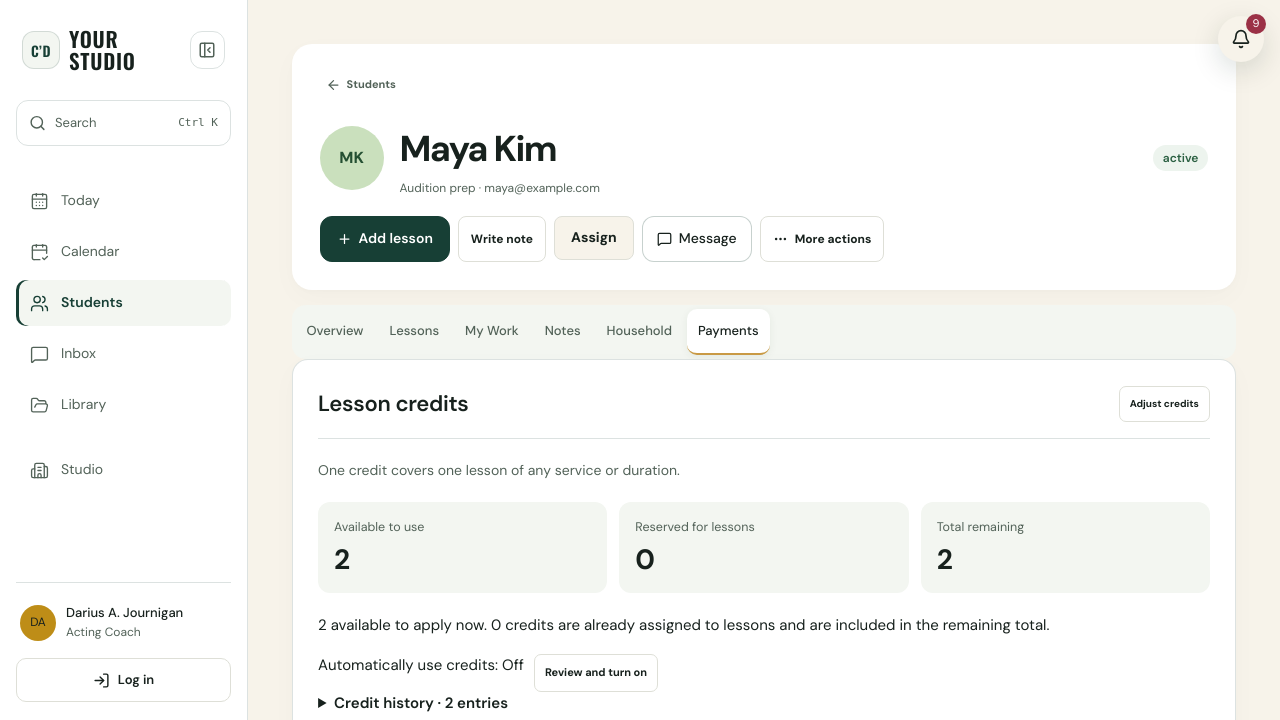
coach credit adjustments › sets a remaining total with a required reason instead of a signed correction
The image size is (1280, 720).
Click the button "Adjust credits" at (1164,404), box [1119,386,1210,422]
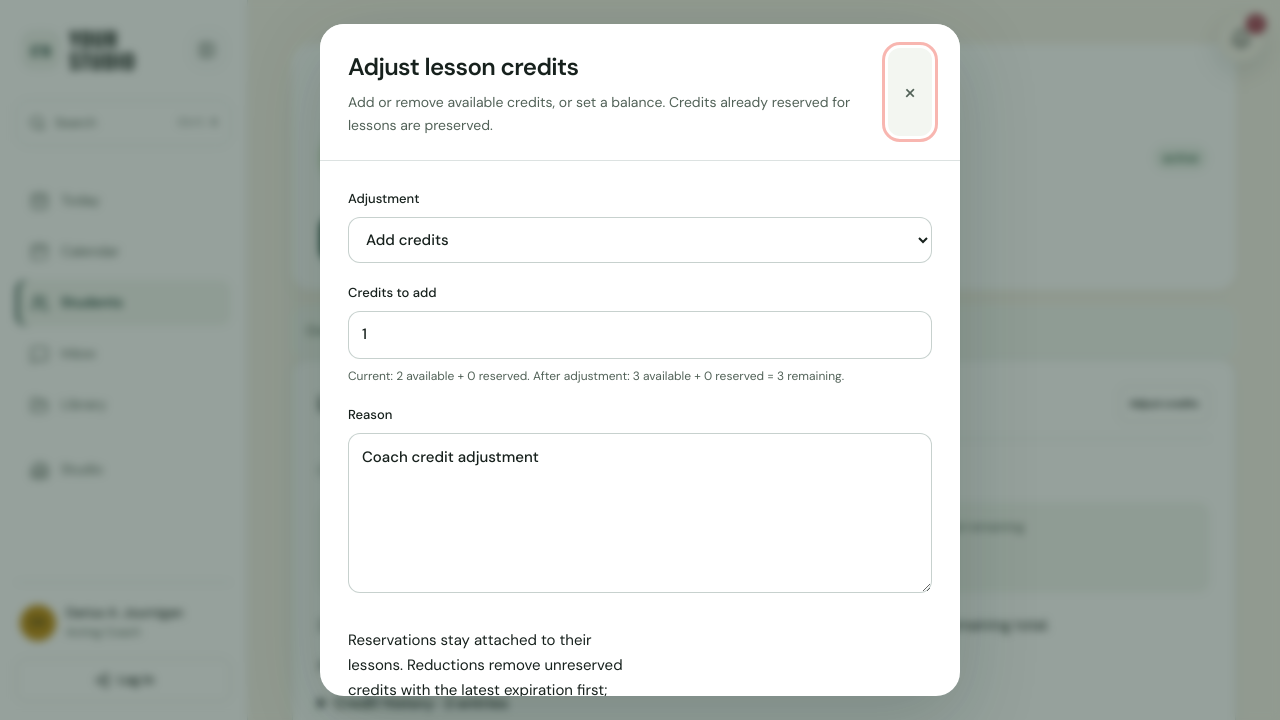
Select "Set remaining total" in the dropdown labelled "Adjustment" at (640,240), box [348,217,932,263]
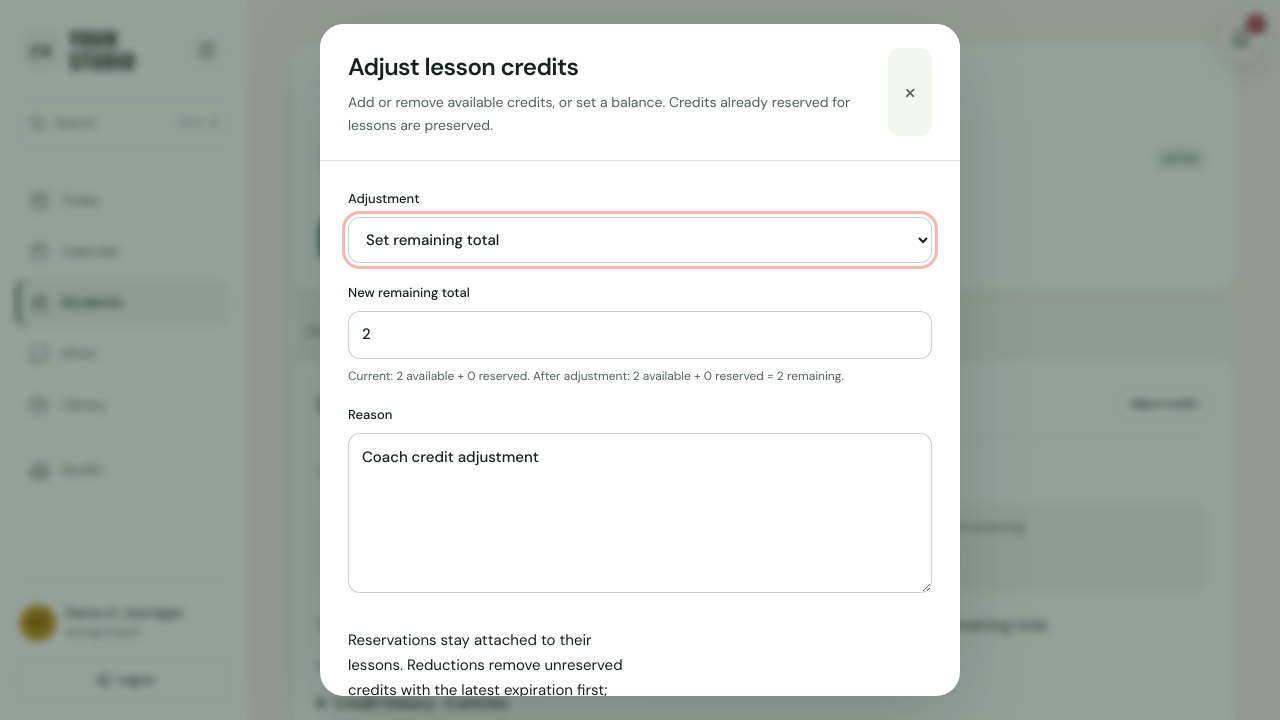
Replace the text in the number field labelled "New remaining total" with "4" at (640,335), box [348,311,932,359]
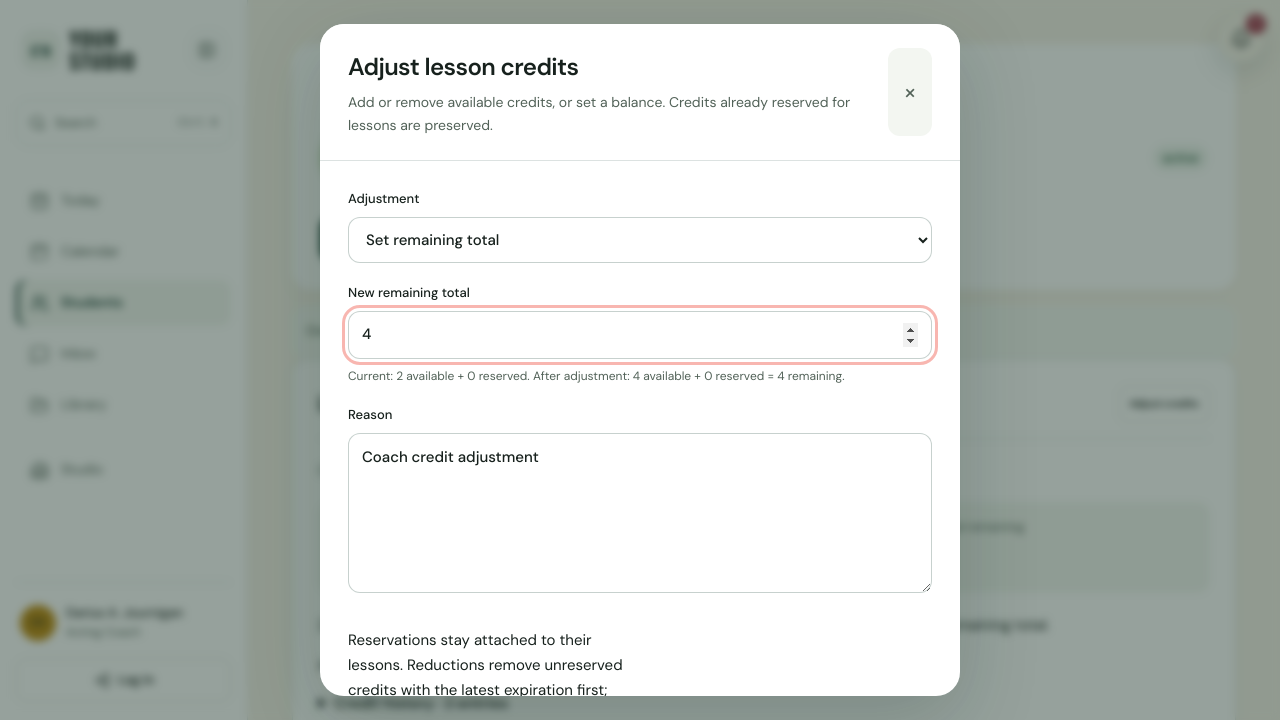
Clear the text box labelled "Reason" at (640,513), box [348,433,932,593]
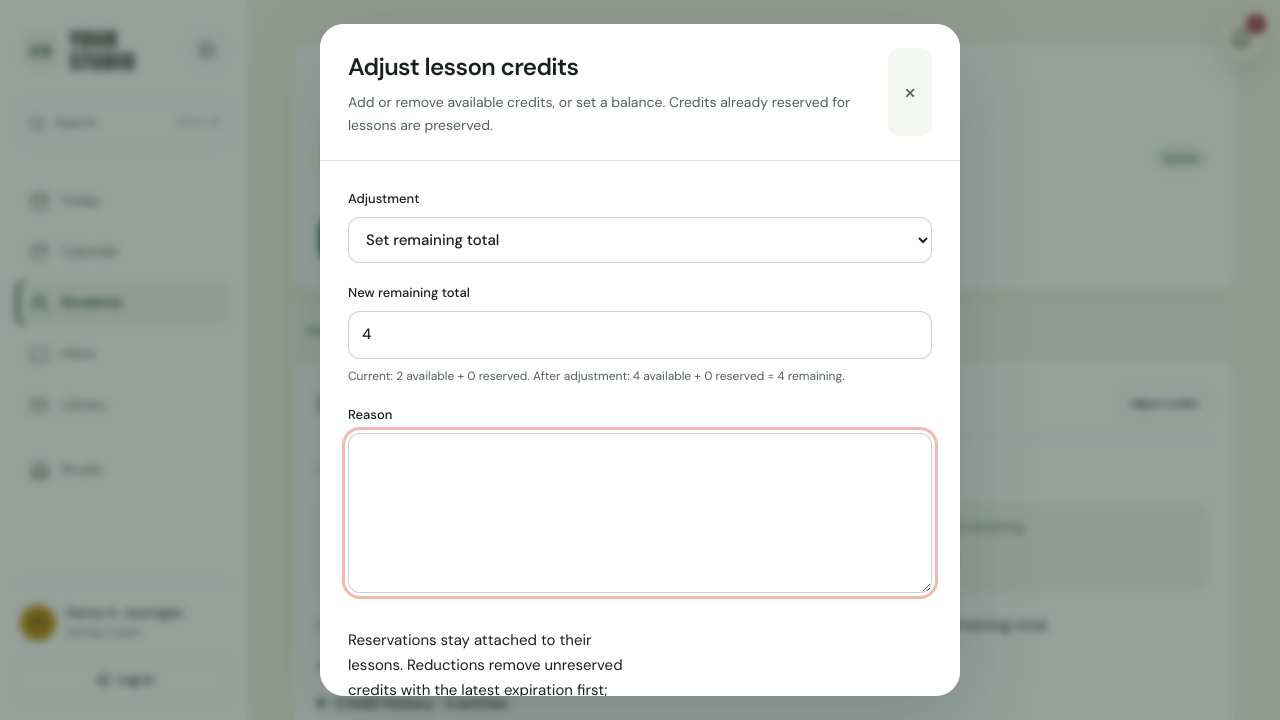
Type "Balance reconciled with student" into the text box labelled "Reason" at (640,513), box [348,433,932,593]
(page scrolled)
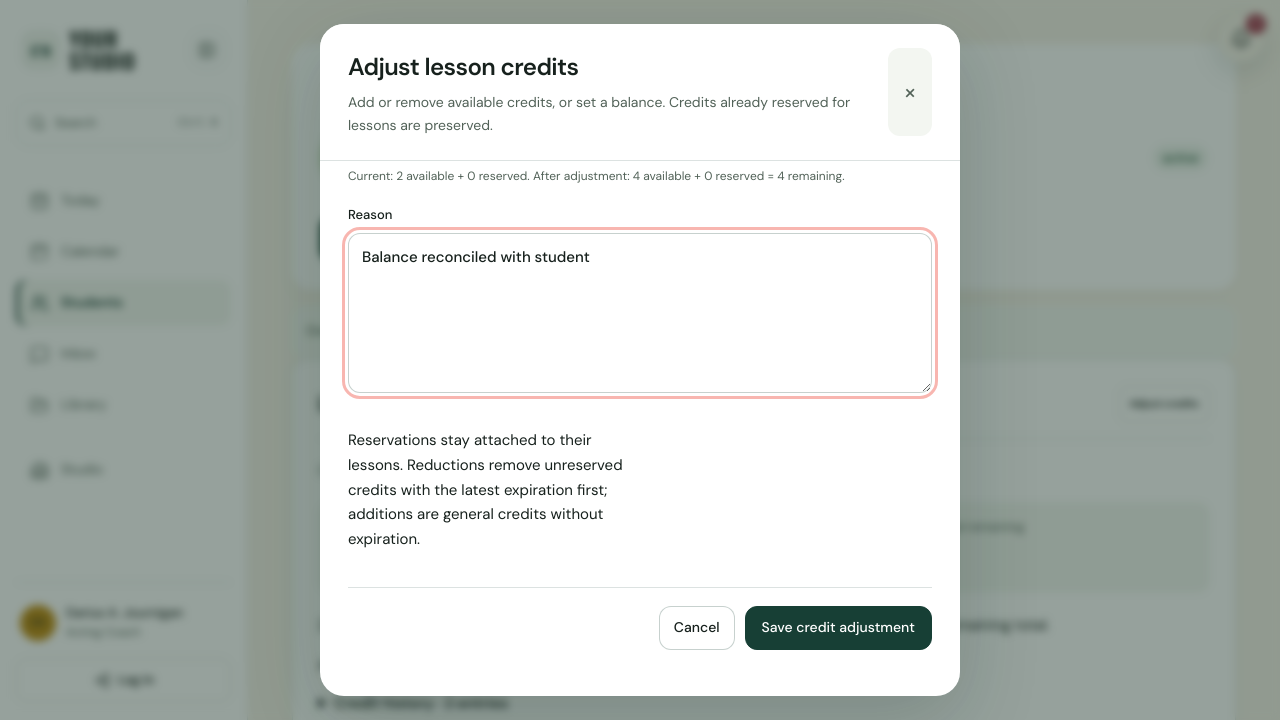
Click the button "Save credit adjustment" at (838,628), box [745,606,932,650]
(page scrolled)
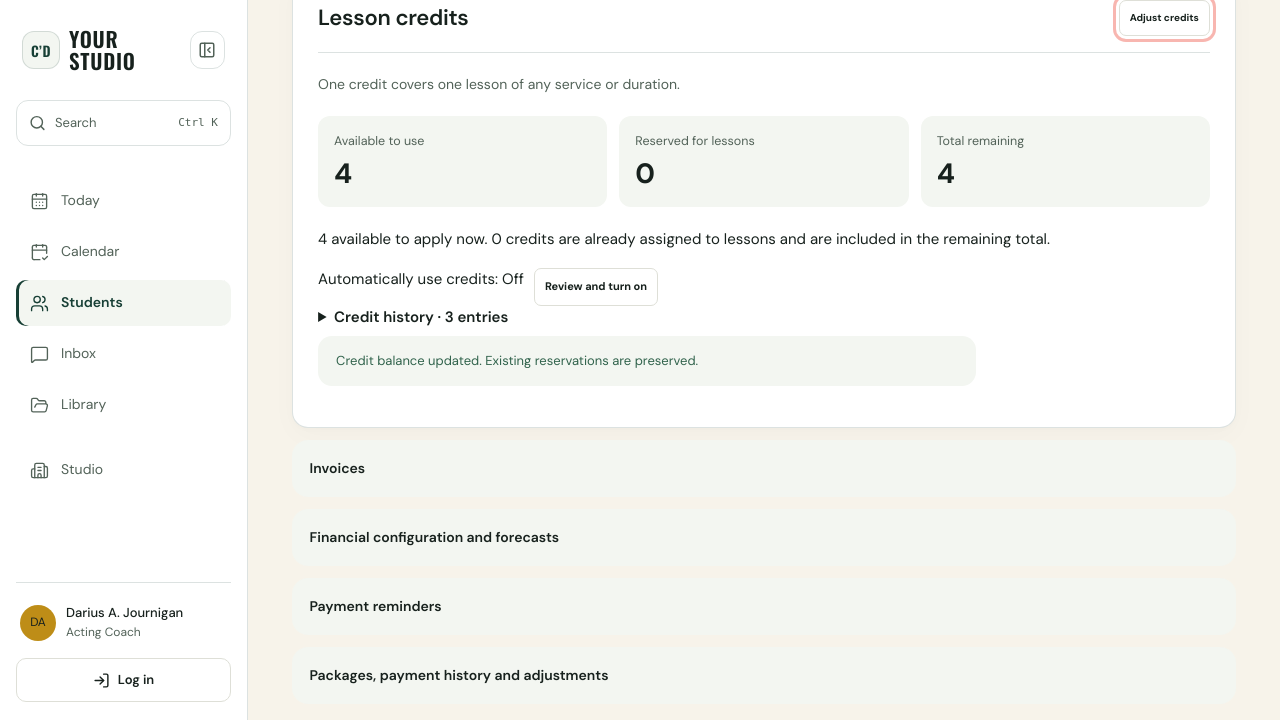
Now the text "Credit balance updated. Existing reservations are preserved." is shown, box [318,336,976,386]
